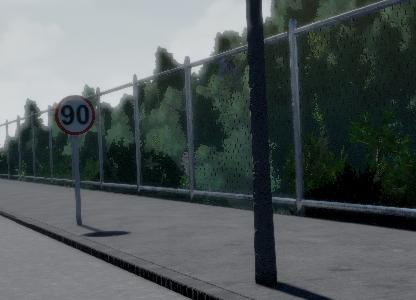Speed_90: (52, 92, 96, 138)
